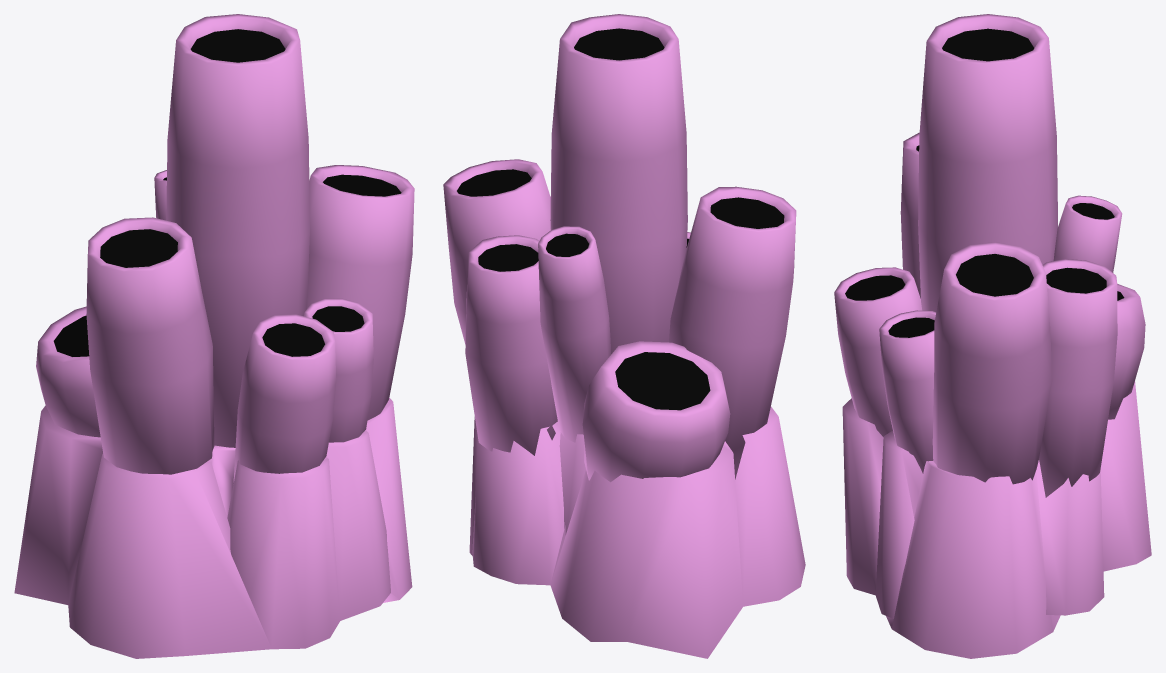
Rendered from Tubecoral.fbx.
The picture shows the model from 3 angles, left to right: view 1: azimuth 30°, elevation 25°; view 2: azimuth 150°, elevation 25°; view 3: azimuth 270°, elevation 25°; orthographic projection. The views are drawn at different scales.
Visible parts, largest first — view 1: Top.004; view 2: Top.004; view 3: Top.004.
Boxes of the visible parts, x1,y1,x2,y2 form: Top.004: (14, 14, 414, 658); Top.004: (443, 14, 805, 658); Top.004: (834, 14, 1151, 658).
Bounding box in the file's own units: 31.8 × 50.1 × 26.3.
